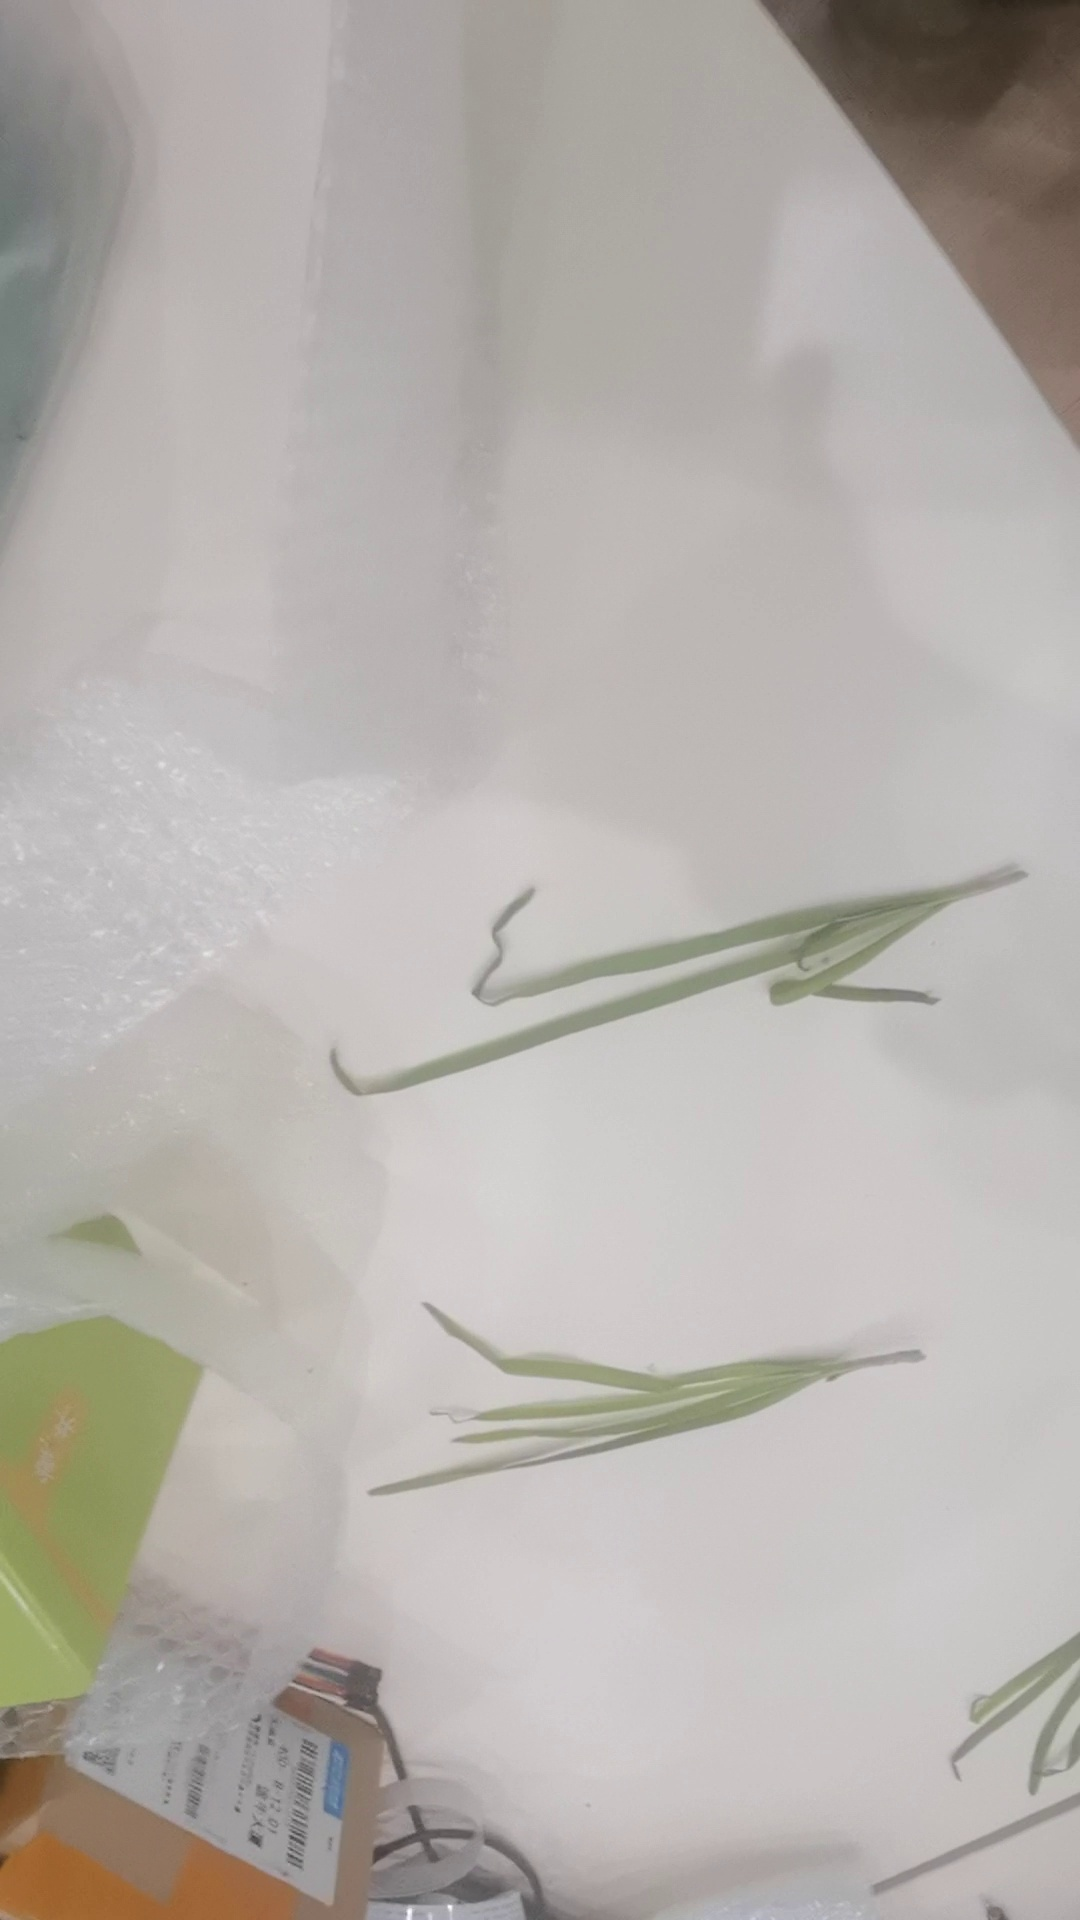chives: (251, 876, 1063, 1045), (343, 1288, 951, 1492)
